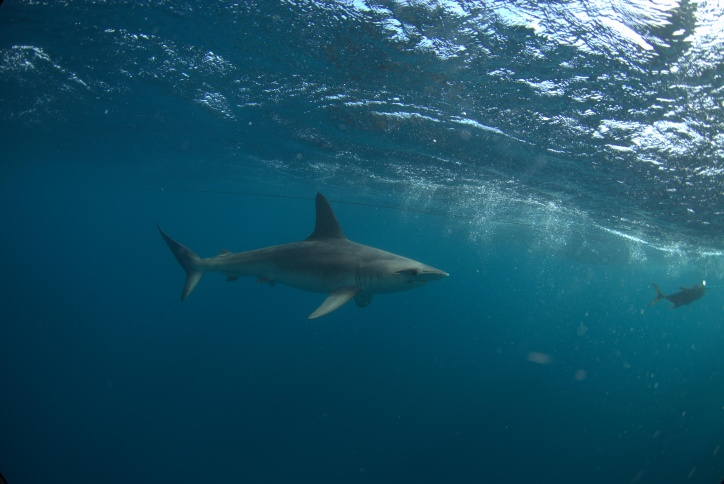Hammer: (105, 179, 531, 352)
